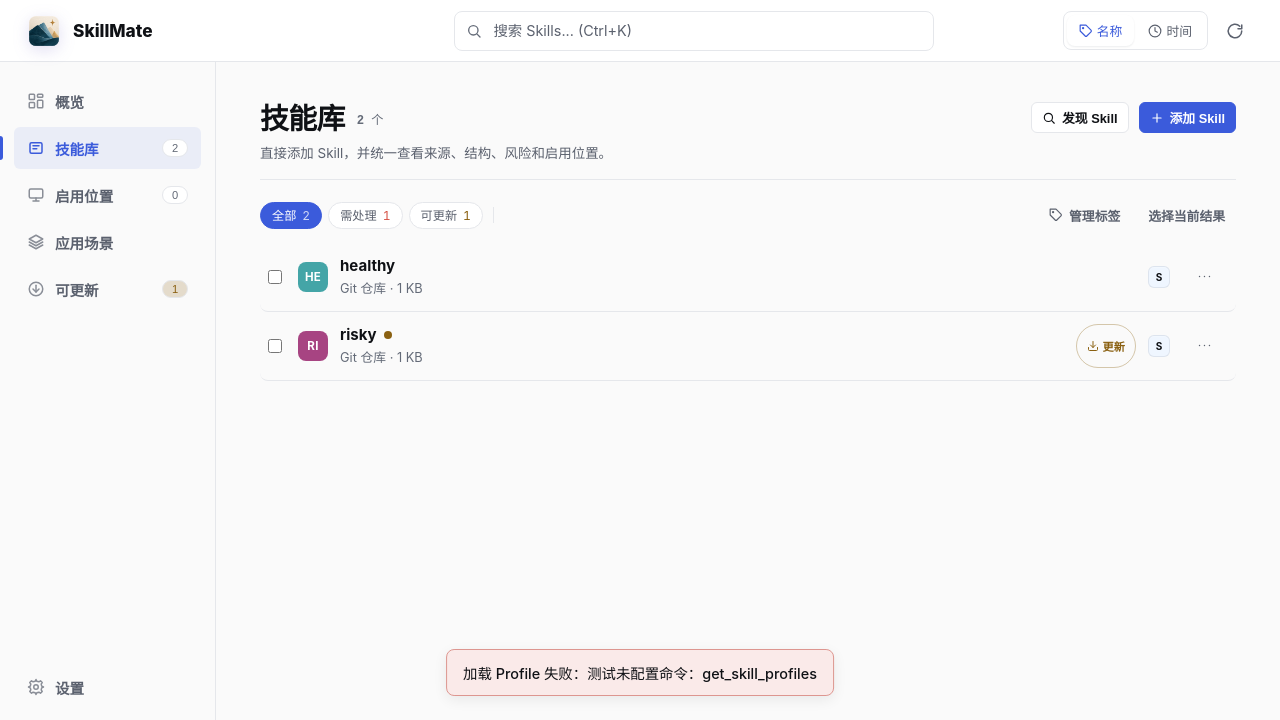
Test: 技能库与父页面协作 › 项目选择位于启用位置页的页头之下
Expected: the text "healthy" is shown, x1=340 y1=256 x2=395 y2=275
Expected: the element with class "header" does not show "选择项目"
Click the button "启用位置 0".
click(108, 195)  # box x1=14 y1=174 x2=201 y2=216
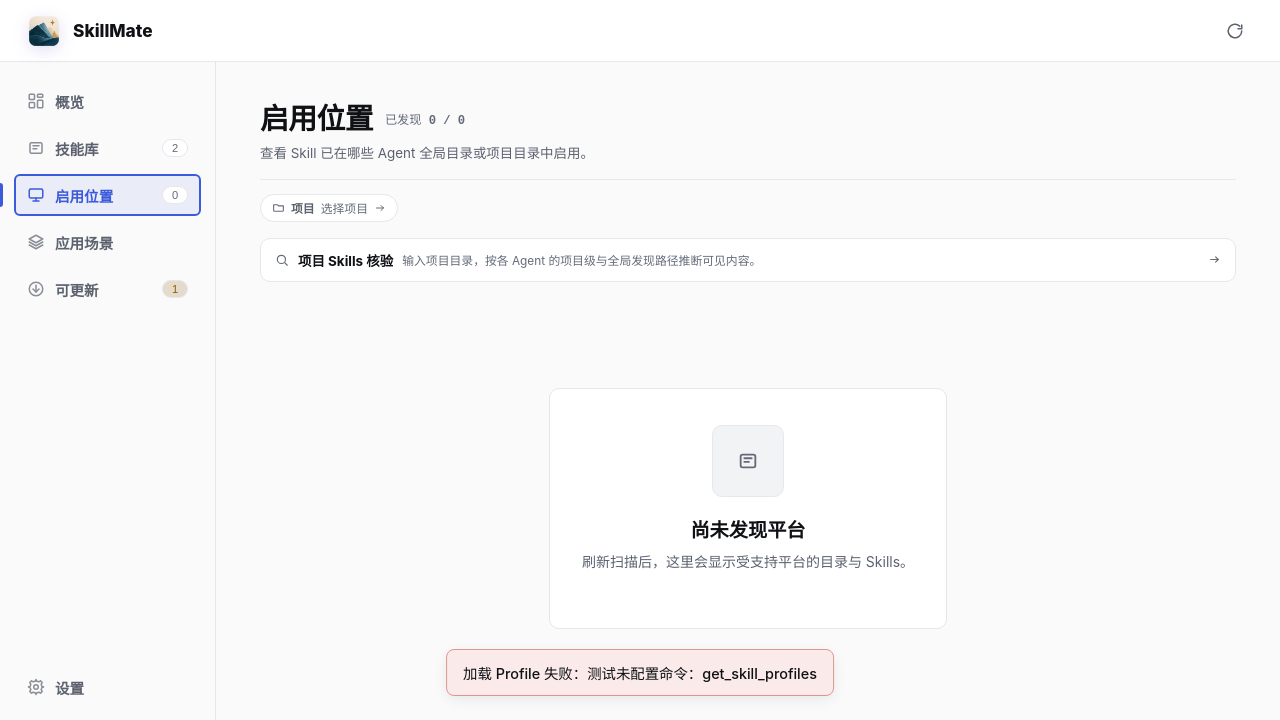
Now the text "选择项目" is shown, box x1=321 y1=199 x2=368 y2=216
